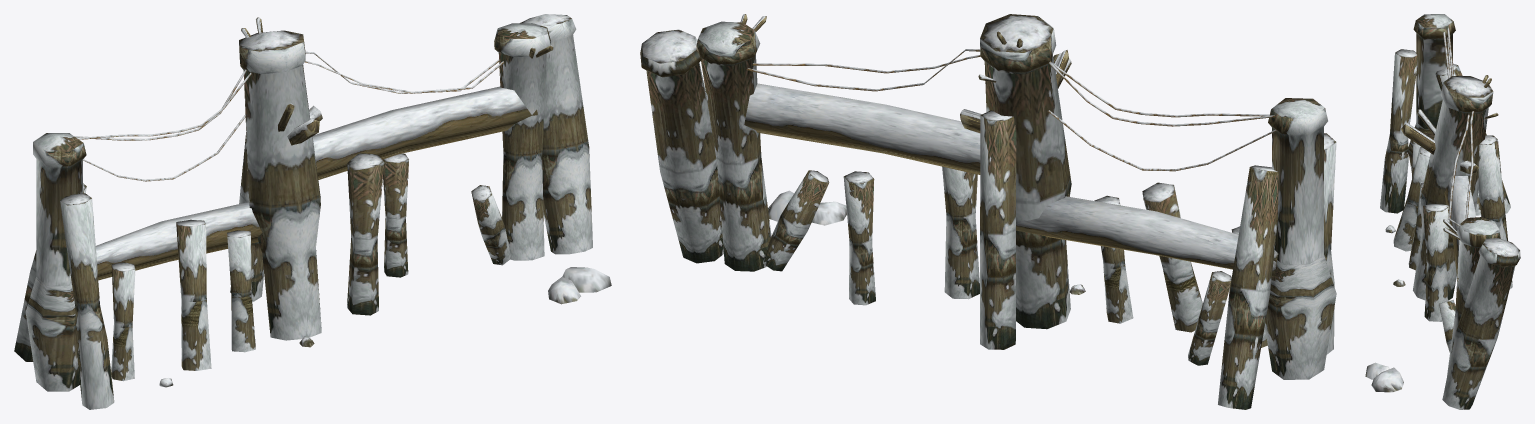
File: environment_common_men_001_c.FBX
3 renders of one model, left to right at view 1: azimuth 30°, elevation 25°; view 2: azimuth 150°, elevation 25°; view 3: azimuth 270°, elevation 25°, orthographic. The views are drawn at different scales.
Visible parts, largest first — view 1: environment_common_men_001_a, environment_common_men_001_b, environment_common_men_001_c; view 2: environment_common_men_001_a, environment_common_men_001_b, environment_common_men_001_c; view 3: environment_common_men_001_a, environment_common_men_001_c, environment_common_men_001_b.
Part boxes in pixels (x1,y1,x2,y2): environment_common_men_001_a: [14, 14, 611, 409]; environment_common_men_001_b: [95, 86, 537, 280]; environment_common_men_001_c: [74, 17, 553, 181]; environment_common_men_001_a: [640, 14, 1336, 409]; environment_common_men_001_b: [744, 83, 1278, 276]; environment_common_men_001_c: [740, 14, 1276, 171]; environment_common_men_001_a: [1365, 14, 1520, 409]; environment_common_men_001_c: [1401, 27, 1498, 239]; environment_common_men_001_b: [1444, 176, 1475, 281].
Size of the model in its own units: 350 by 167 by 107.
